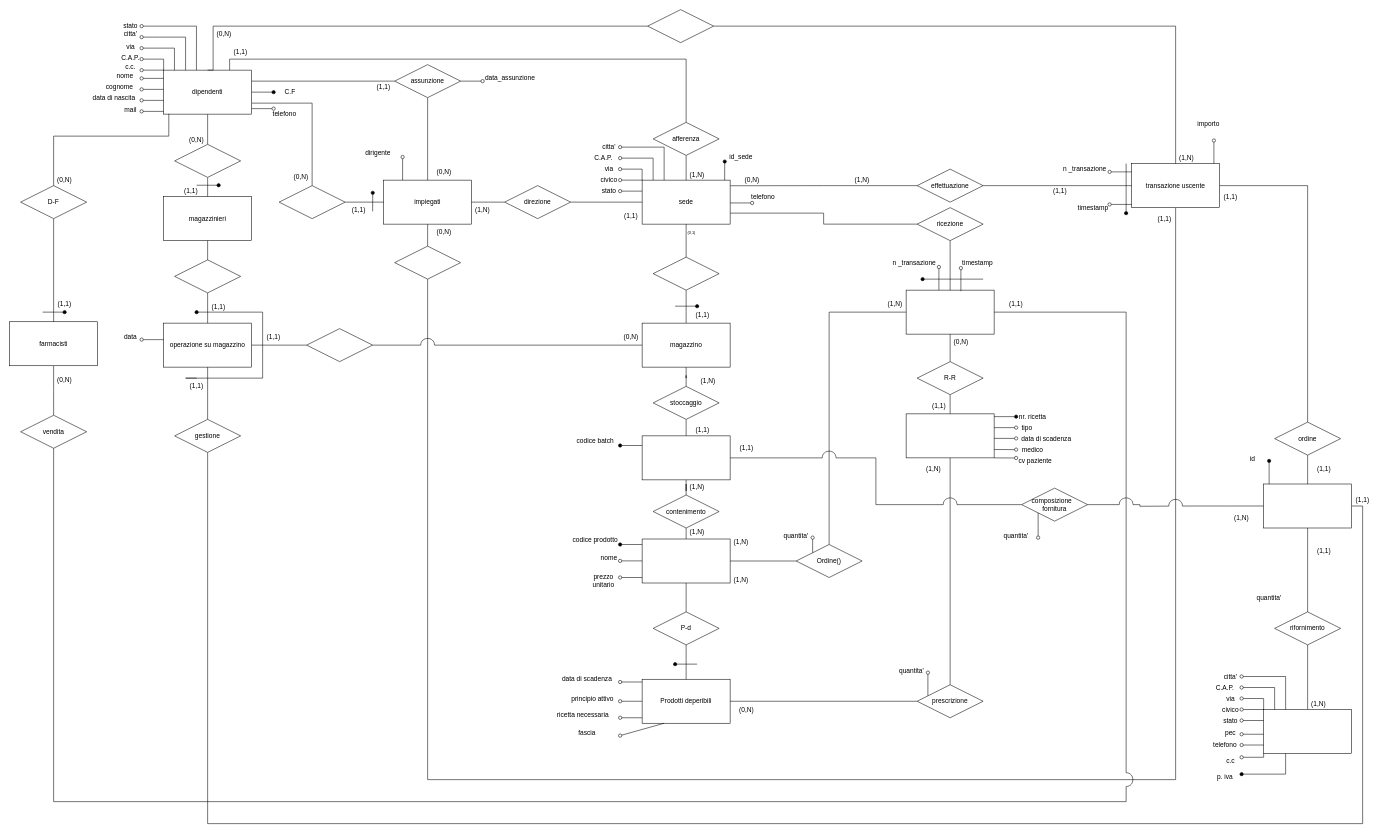
The diagram is 1379 pixels wide and 834 high, and some of its shapes have lost their labels. Here are the shapes that lost their labels. From the top down, the centre of each, then its label:
(680,26): retribuzione
(207,160): D-M
(312,202): D-I
(207,276): registrazione
(427,262): autorizzazione
(686,273): appartenenza
(950,312): ricevuta
(339,345): carico
(950,435): ricette
(686,457): batch
(1307,505): fornitura
(686,560): prodotti
(1307,731): fornitore
